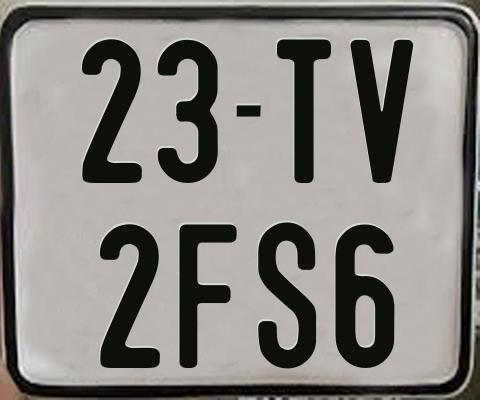2: (98, 222, 164, 368), (81, 38, 144, 185)
3: (155, 37, 220, 186)
6: (334, 223, 400, 372)
F: (178, 221, 238, 370)
S: (258, 222, 317, 373)
T: (277, 39, 332, 189)
V: (349, 38, 413, 183)
